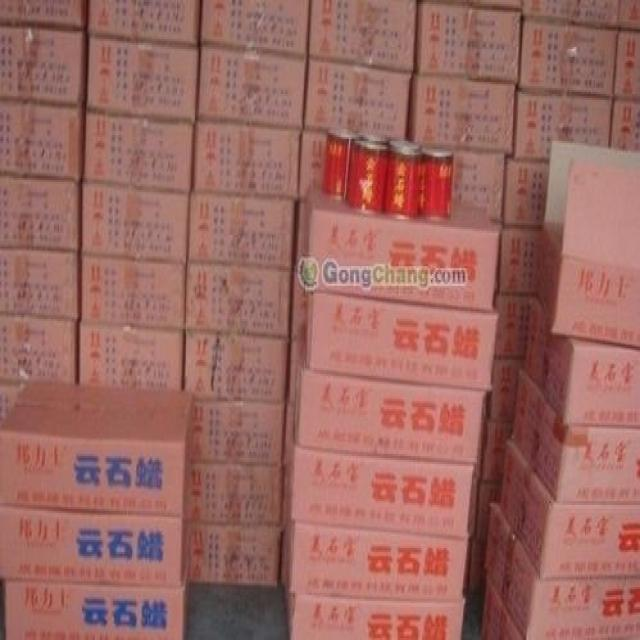box: (0, 382, 194, 515), (304, 188, 500, 311), (0, 460, 192, 585), (304, 276, 498, 388), (537, 141, 640, 348), (485, 503, 640, 640), (500, 438, 640, 579), (4, 534, 190, 640), (292, 368, 486, 466), (512, 370, 640, 505), (290, 446, 475, 538), (525, 299, 640, 427), (287, 521, 467, 601), (87, 35, 198, 119), (198, 45, 307, 129), (414, 0, 521, 84), (83, 110, 194, 190), (192, 119, 301, 200), (304, 59, 412, 139), (408, 74, 516, 153), (81, 182, 189, 260), (186, 192, 295, 268), (185, 262, 291, 337), (290, 595, 464, 640), (81, 254, 185, 329), (309, 0, 417, 72), (519, 20, 617, 98), (0, 23, 88, 106), (183, 333, 289, 401), (514, 90, 613, 160), (0, 100, 86, 180), (78, 325, 183, 389), (0, 174, 81, 252), (200, 0, 310, 55), (192, 401, 285, 464), (190, 464, 283, 525), (191, 525, 282, 587), (0, 249, 80, 319), (0, 313, 78, 384), (88, 0, 200, 45), (453, 151, 505, 219), (504, 159, 549, 227), (498, 227, 541, 296), (480, 573, 523, 640), (495, 294, 531, 358)
